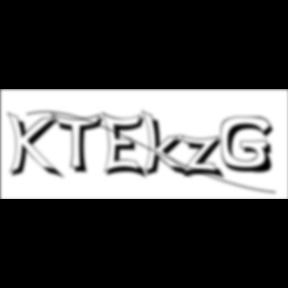E: (102, 110, 150, 182)
G: (220, 116, 280, 176)
K: (7, 110, 66, 182)
T: (51, 112, 109, 176)
k: (142, 108, 195, 181)
z: (180, 134, 230, 182)
